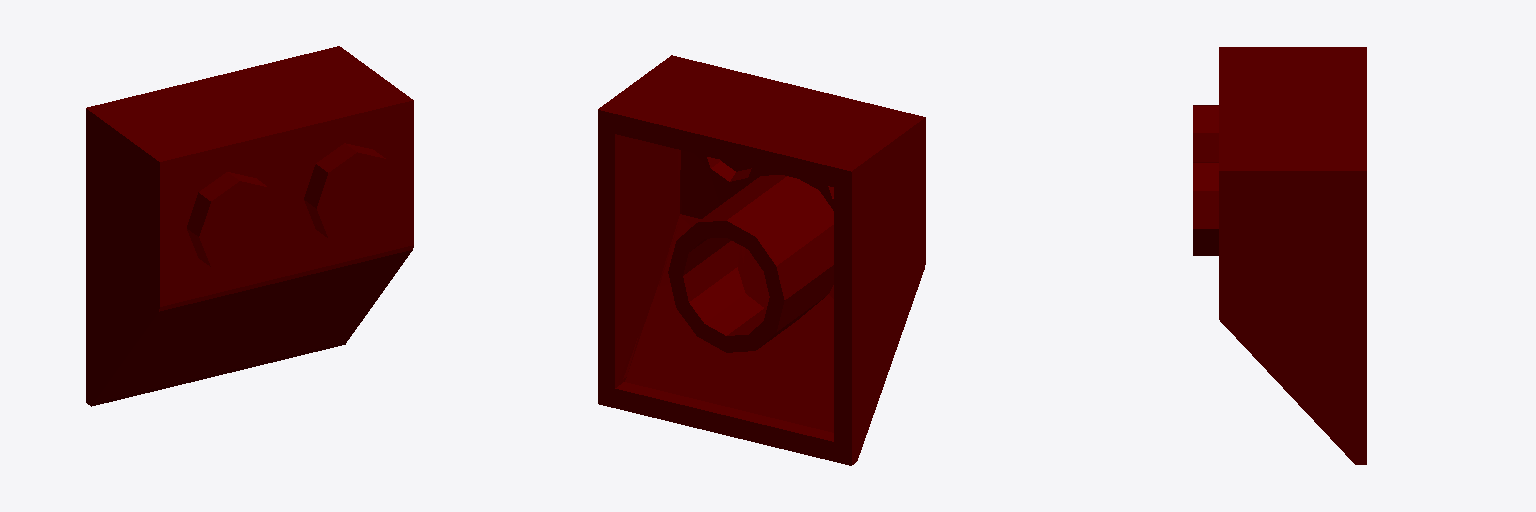
File: bloc4X2X2croche-red.obj
3 views of the same model, side by side, from view 1: azimuth 30°, elevation 25°; view 2: azimuth 150°, elevation 25°; view 3: azimuth 270°, elevation 25° (orthographic).
Parts seen in each view (by area): view 1: Lego_Bricks_Random_Pieces_convert.004; view 2: Lego_Bricks_Random_Pieces_convert.004; view 3: Lego_Bricks_Random_Pieces_convert.004.
Part boxes in pixels (left/top/right/bottom): Lego_Bricks_Random_Pieces_convert.004: left=86, top=46, right=413, bottom=406; Lego_Bricks_Random_Pieces_convert.004: left=598, top=55, right=925, bottom=465; Lego_Bricks_Random_Pieces_convert.004: left=1193, top=47, right=1366, bottom=464.
Bounding box in the file's own units: 0.8849 × 0.9803 × 0.5246.